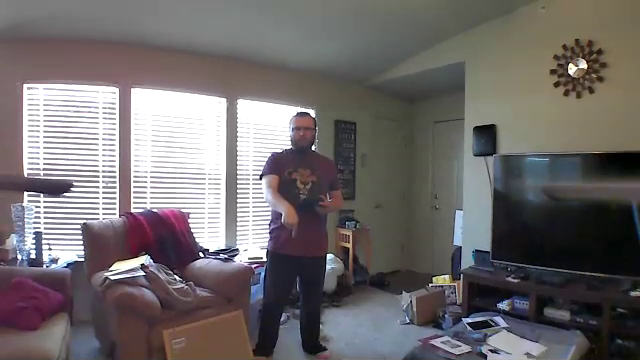down: (277, 199, 300, 242)
